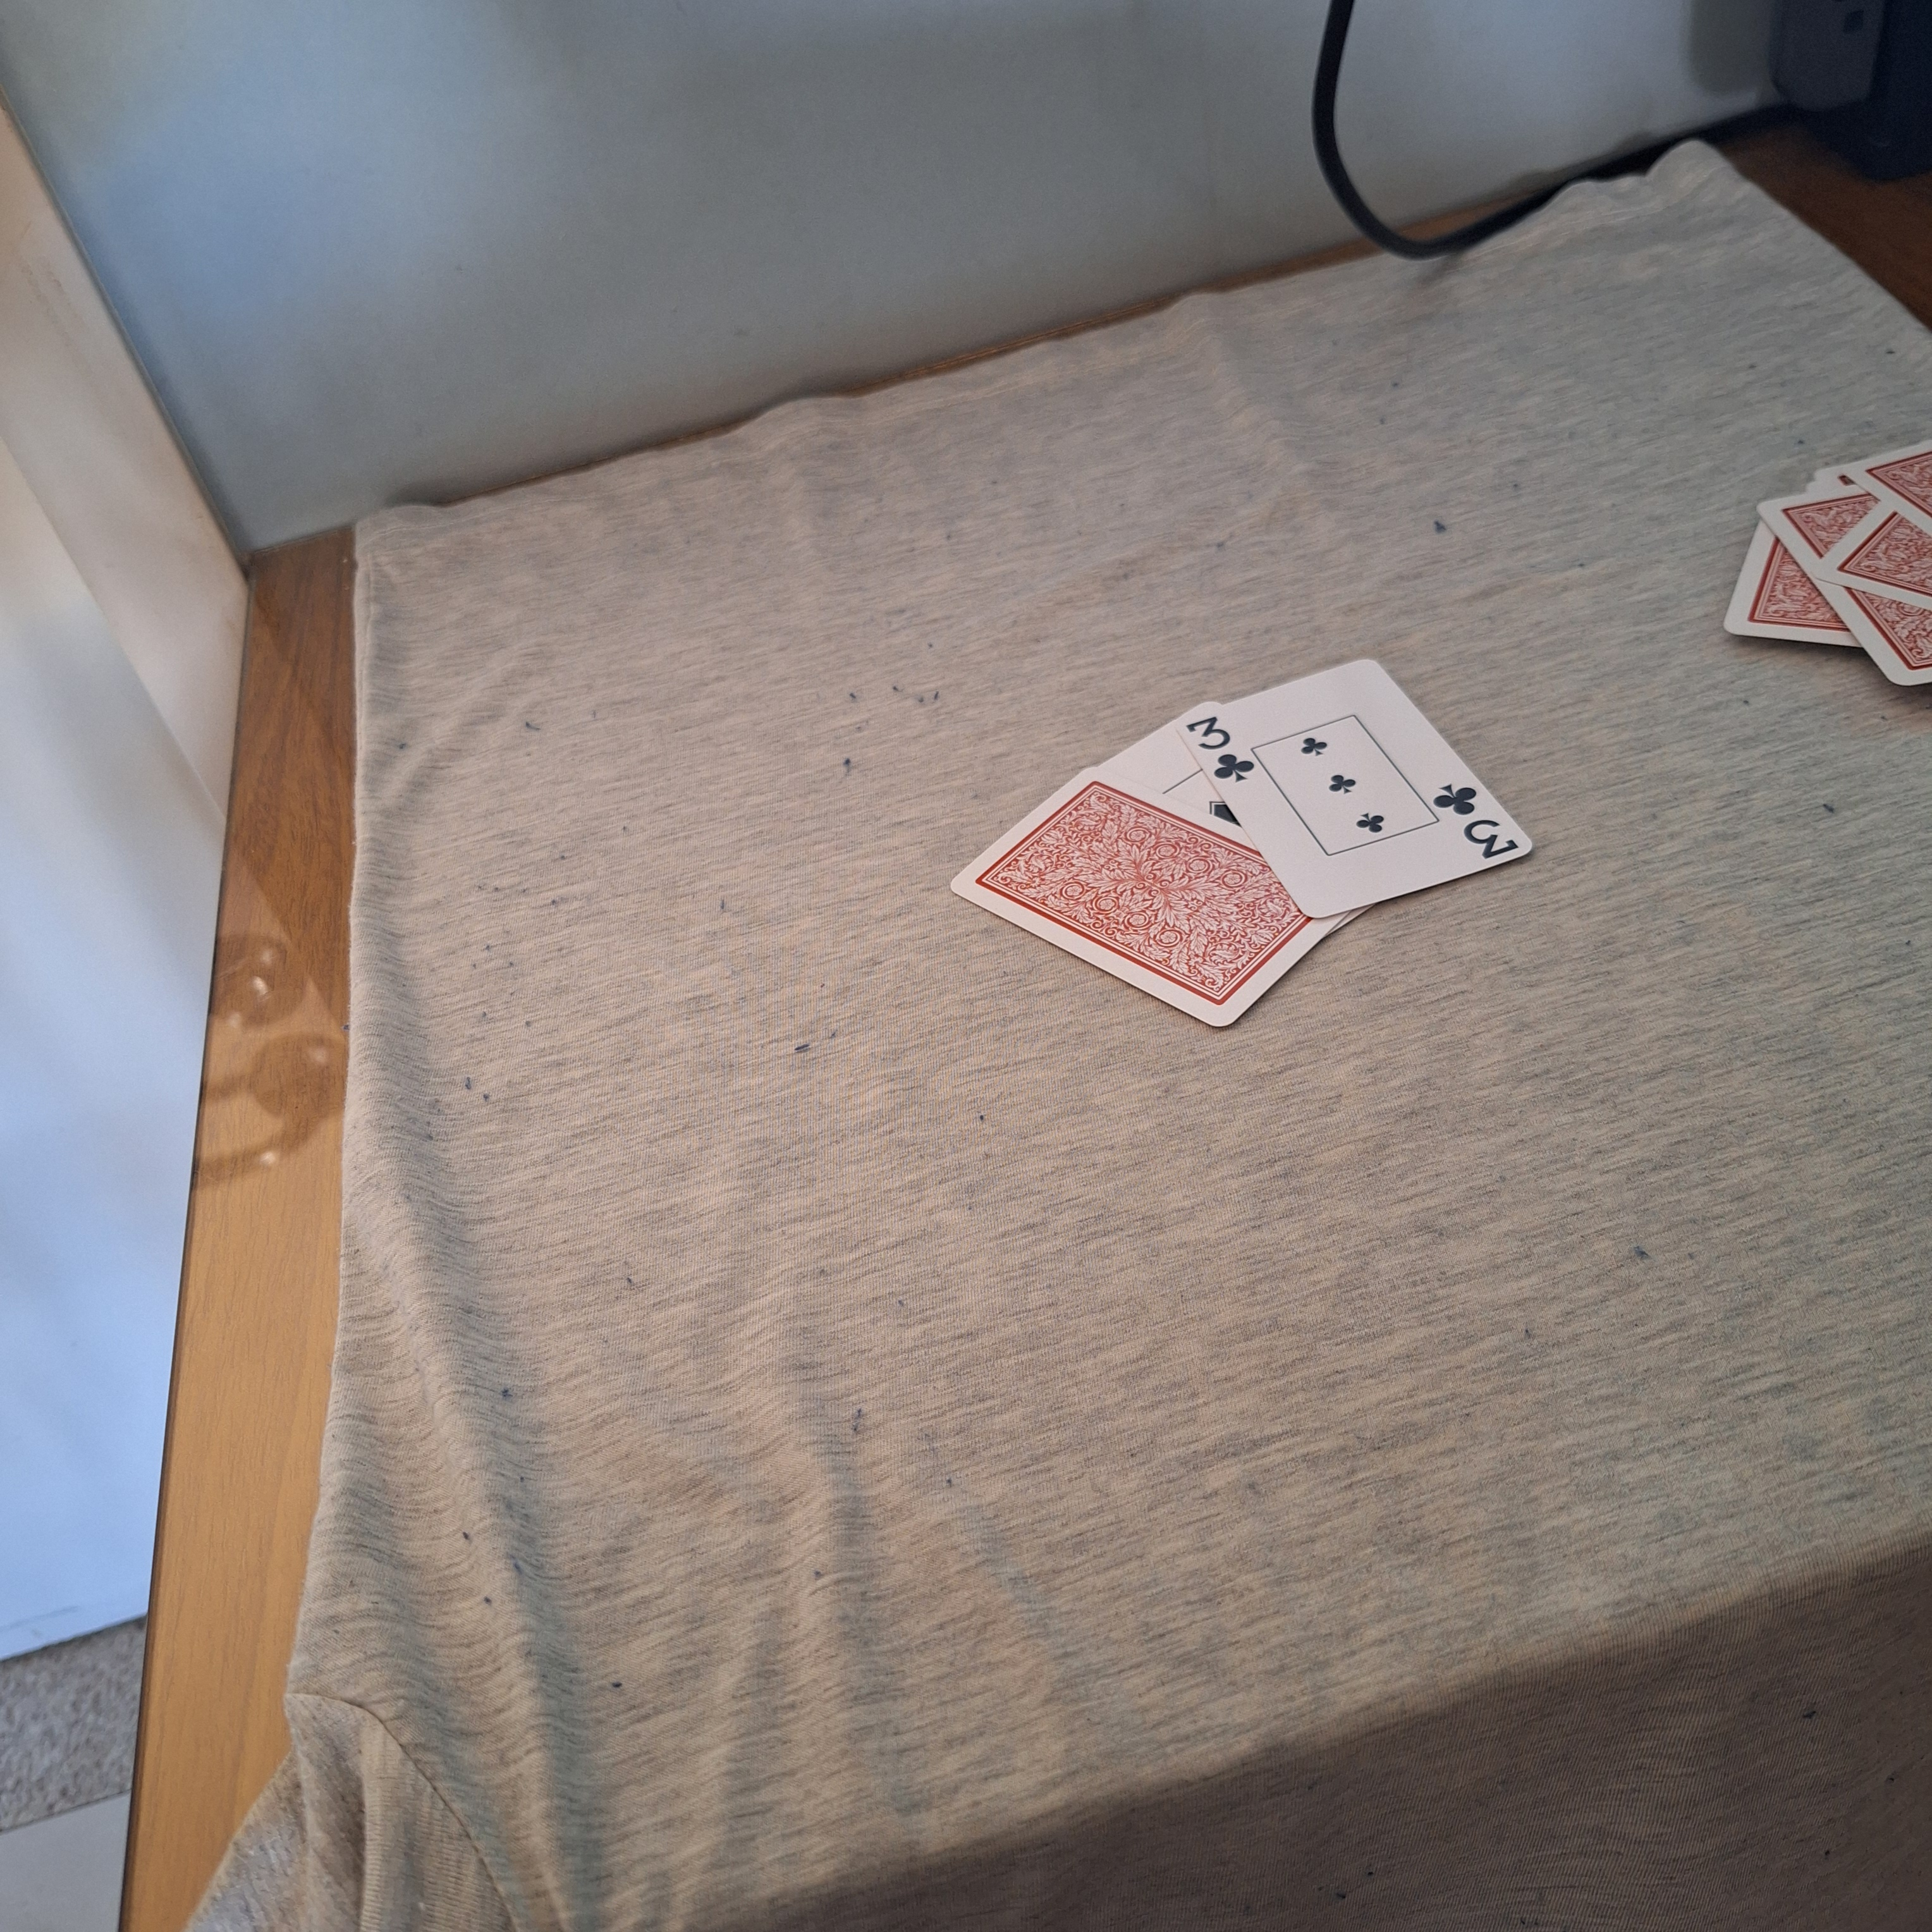3P: (1428, 778, 1529, 872), (1178, 709, 1263, 784)
